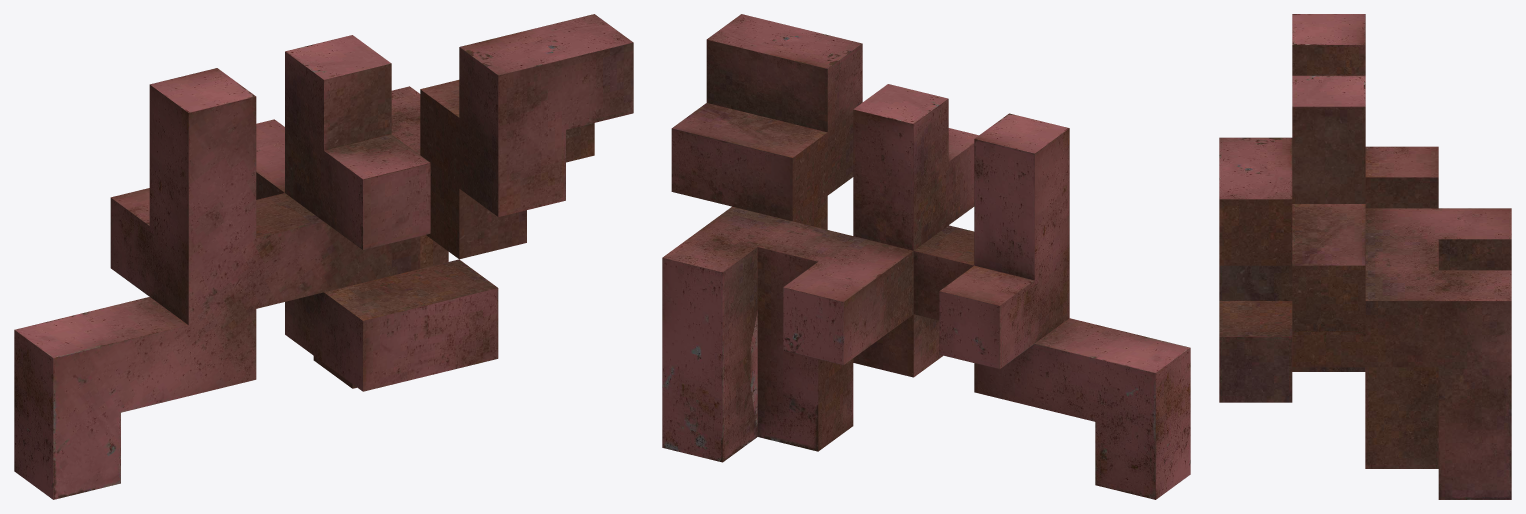
Rendered from Blocktwo.fbx.
3 renders of one model, left to right at view 1: azimuth 30°, elevation 25°; view 2: azimuth 150°, elevation 25°; view 3: azimuth 270°, elevation 25°, orthographic. The views are drawn at different scales.
Visible parts, largest first — view 1: Blocktwo; view 2: Blocktwo; view 3: Blocktwo.
Part boxes in pixels (left/top/right/bottom): Blocktwo: left=14, top=14, right=633, bottom=499; Blocktwo: left=662, top=14, right=1190, bottom=499; Blocktwo: left=1219, top=14, right=1511, bottom=499.
Size of the model in its own units: 450 by 281 by 225.
Materials: 1 (1 with a texture image).
